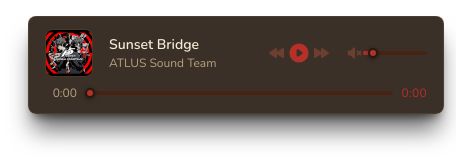
MusicPlayer › advances to the next track
Click the button named "Next track".
click(321, 53)  # box [311,43,331,63]
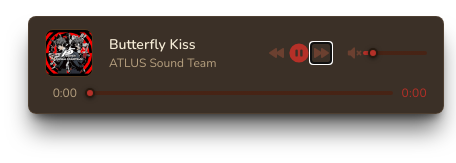
Result: the heading "Butterfly Kiss" is shown at [109,35,196,54]
